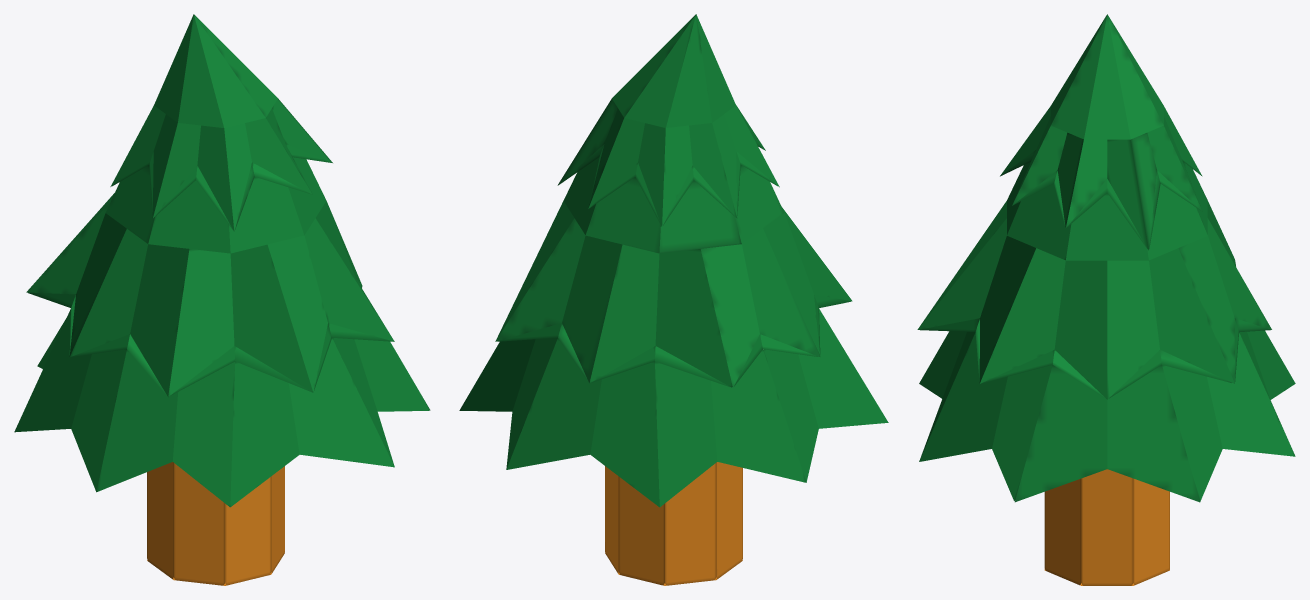
File: tree.fbx
The picture shows the model from 3 angles, left to right: view 1: azimuth 30°, elevation 25°; view 2: azimuth 150°, elevation 25°; view 3: azimuth 270°, elevation 25°; orthographic projection. The views are drawn at different scales.
Visible parts, largest first — view 1: leaves, trunk; view 2: leaves, trunk; view 3: leaves, trunk.
Boxes of the visible parts, x1,y1,x2,y2 form: leaves: (14, 14, 430, 507); trunk: (147, 462, 284, 585); leaves: (459, 14, 888, 507); trunk: (605, 462, 742, 585); leaves: (917, 14, 1295, 502); trunk: (1044, 469, 1169, 585).
Size of the model in its own units: 188 by 294 by 188.
Materials: 1 (1 with a texture image).
